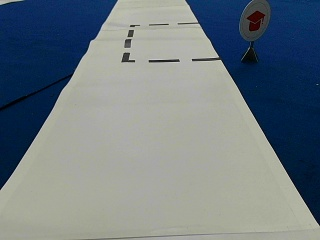school: (237, 1, 270, 39)
